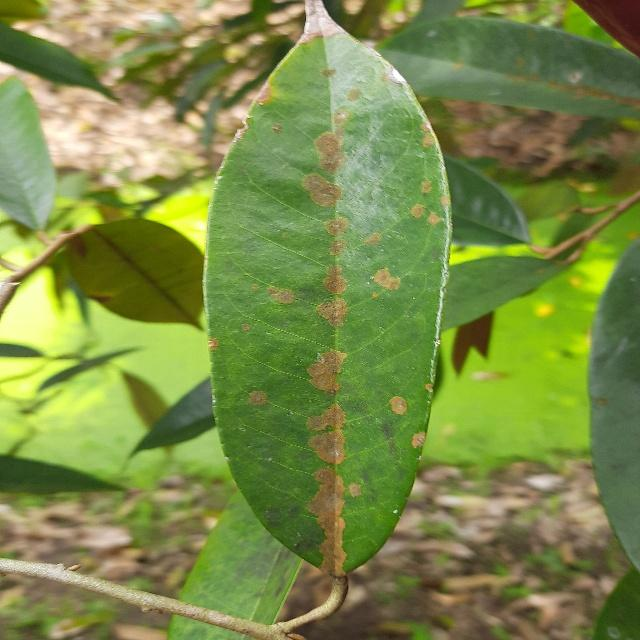Algal Leaf Spot: (199, 0, 459, 640)
